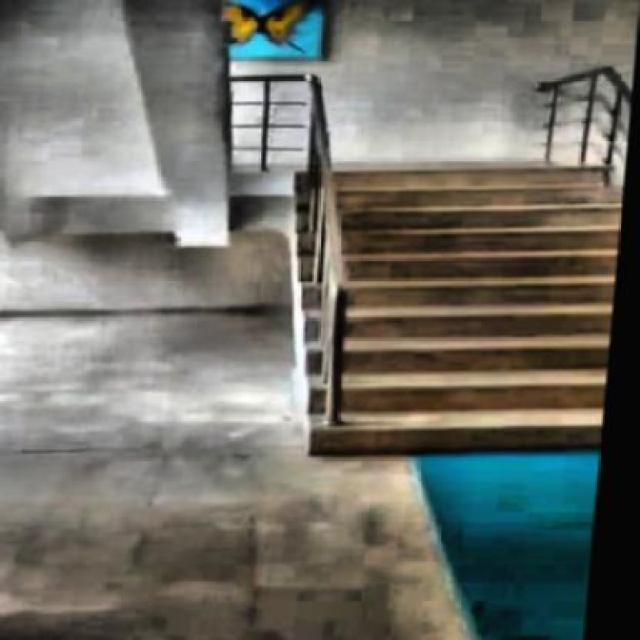stair: (245, 148, 628, 469)
